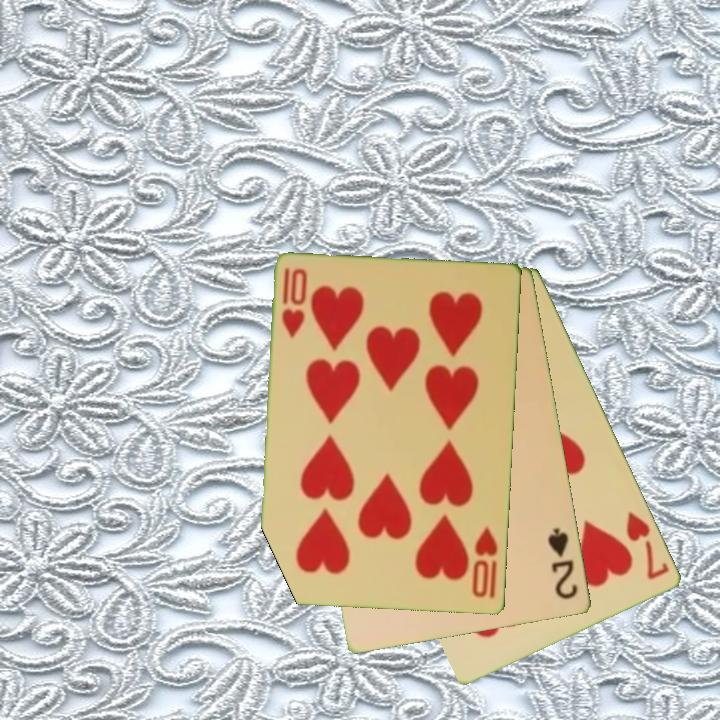10h: (278, 264, 311, 341), (469, 523, 501, 601)
2s: (545, 524, 581, 603)
7h: (623, 507, 673, 583)
